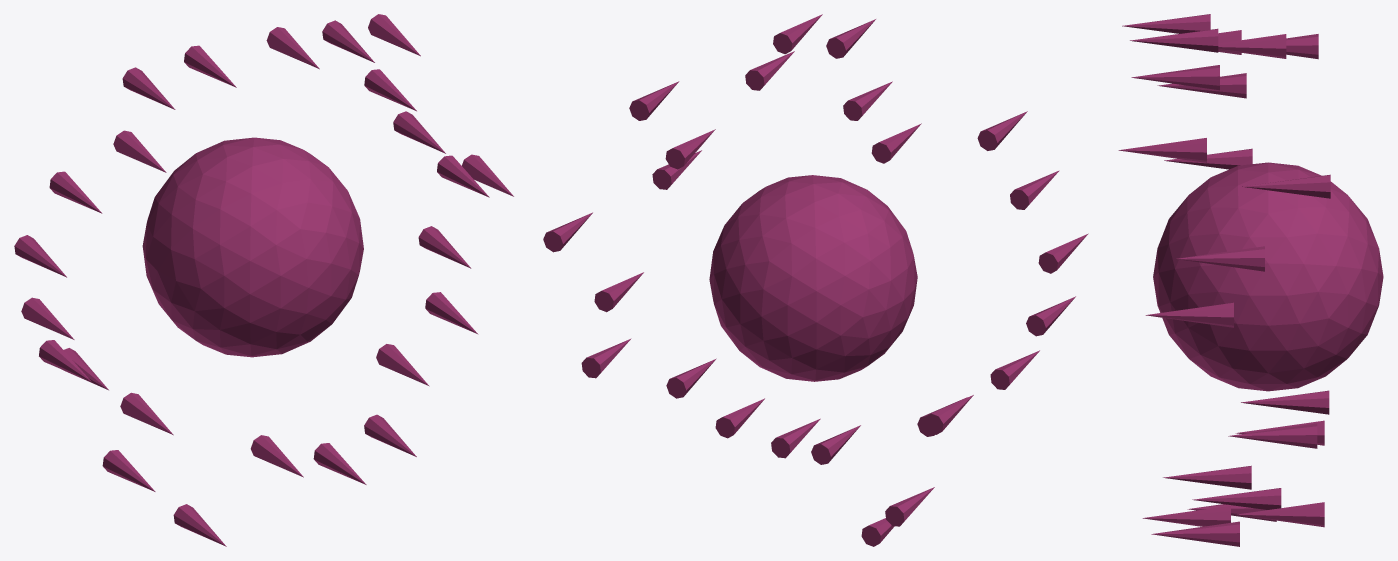
File: nature_151.glb
The picture shows the model from 3 angles, left to right: view 1: azimuth 30°, elevation 25°; view 2: azimuth 150°, elevation 25°; view 3: azimuth 270°, elevation 25°; orthographic projection. The views are drawn at different scales.
Visible parts, largest first — view 1: world; view 2: world; view 3: world.
Boxes of the visible parts, box(x1,y1,x2,y2) form: world: box(14, 14, 513, 546); world: box(543, 14, 1088, 546); world: box(1118, 14, 1383, 546).
Size of the model in its own units: 2.38 by 2.26 by 1.04.
